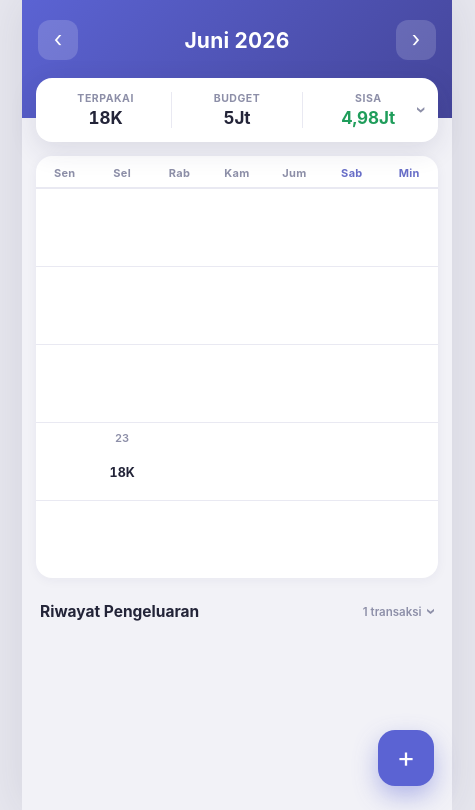
Scenario: App — renders the server dashboard › navigates months and shows the "back to today" pill
expect the text "Terpakai" is shown: met, box [77,92,134,105]
Step 1. Click the button named "Bulan sebelumnya" → [58, 40], box [38,20,78,60]
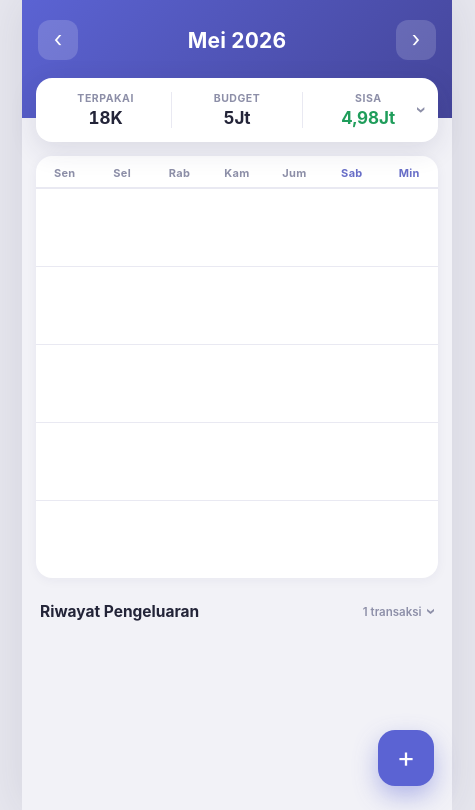
expect the text "Mei 2026" is shown: met, box [188,28,286,52]
